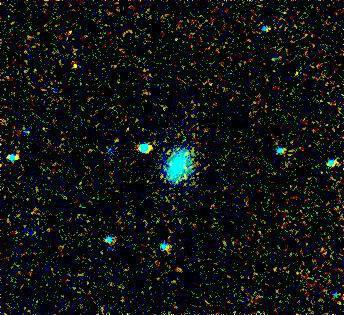star: (58, 17, 88, 47)
